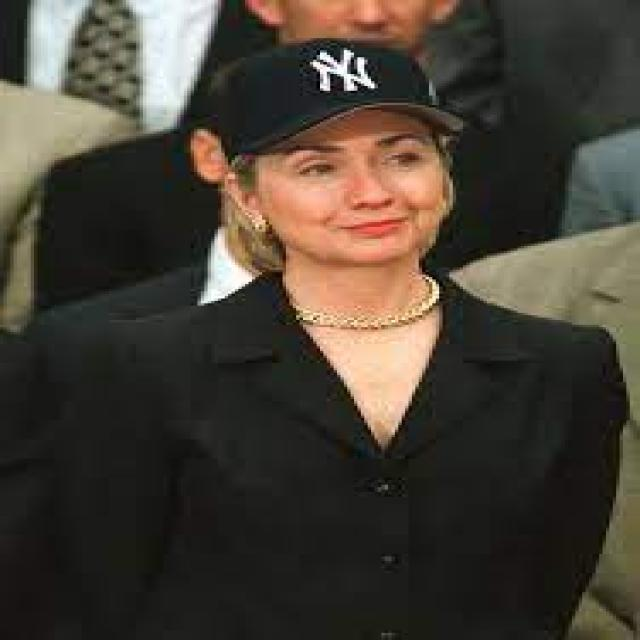3_gorra: (205, 39, 466, 157)
